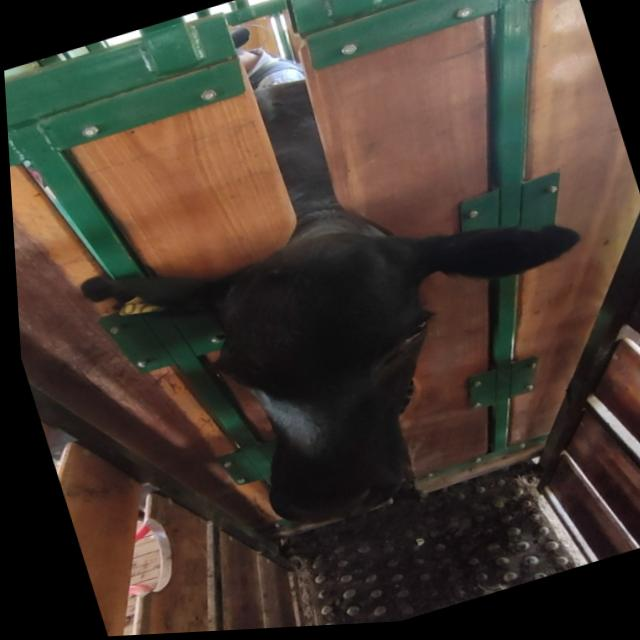cowFace: (175, 215, 479, 549)
